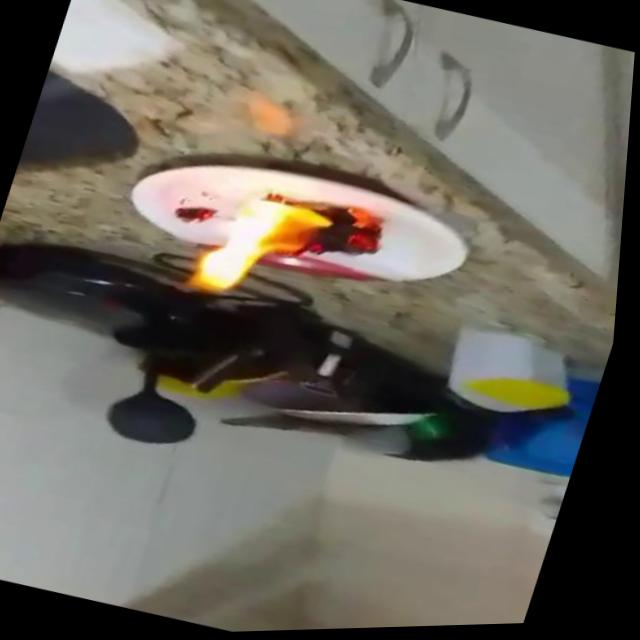Fire: (179, 168, 399, 332)
